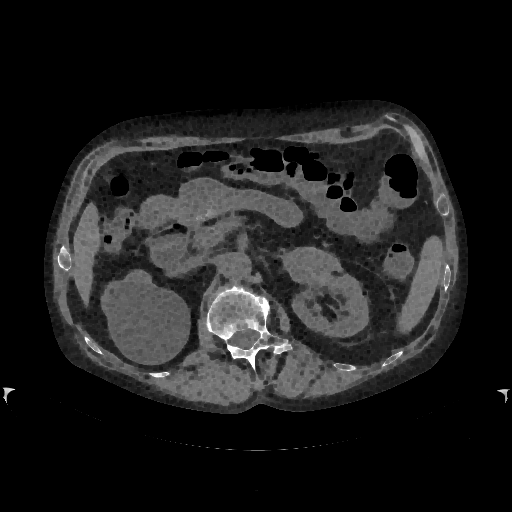Lesion: (281, 243, 345, 291)
